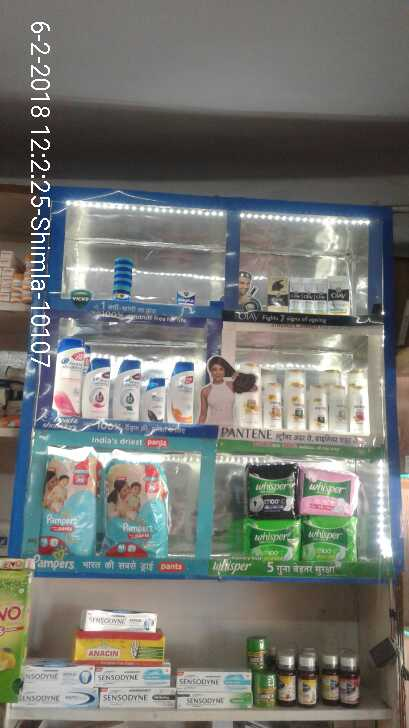beauty: (52, 336, 86, 414), (109, 354, 143, 418), (82, 351, 113, 418), (237, 361, 263, 431), (343, 370, 371, 432), (169, 368, 199, 424), (282, 368, 307, 428), (304, 382, 331, 431), (145, 378, 166, 415)
pharmacy: (102, 455, 171, 562), (39, 452, 100, 556), (297, 514, 358, 561), (299, 468, 360, 514), (239, 518, 301, 561), (239, 466, 291, 512), (104, 253, 133, 303)
